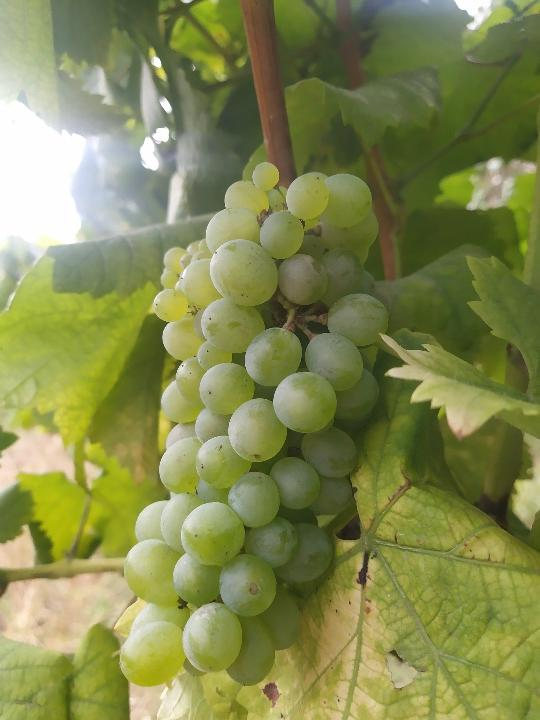grape: (112, 160, 392, 690)
